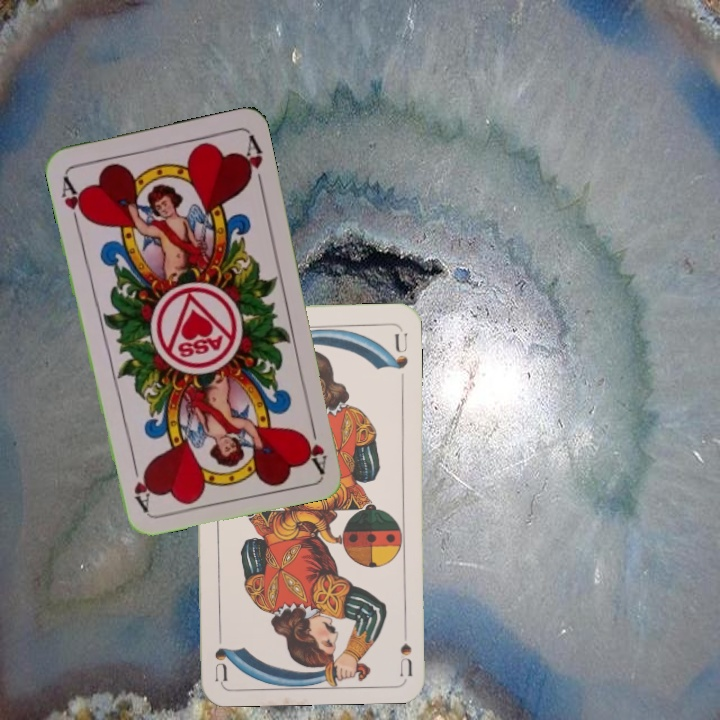HA: (298, 415, 330, 474), (57, 172, 90, 229)
SU: (396, 639, 415, 677)
